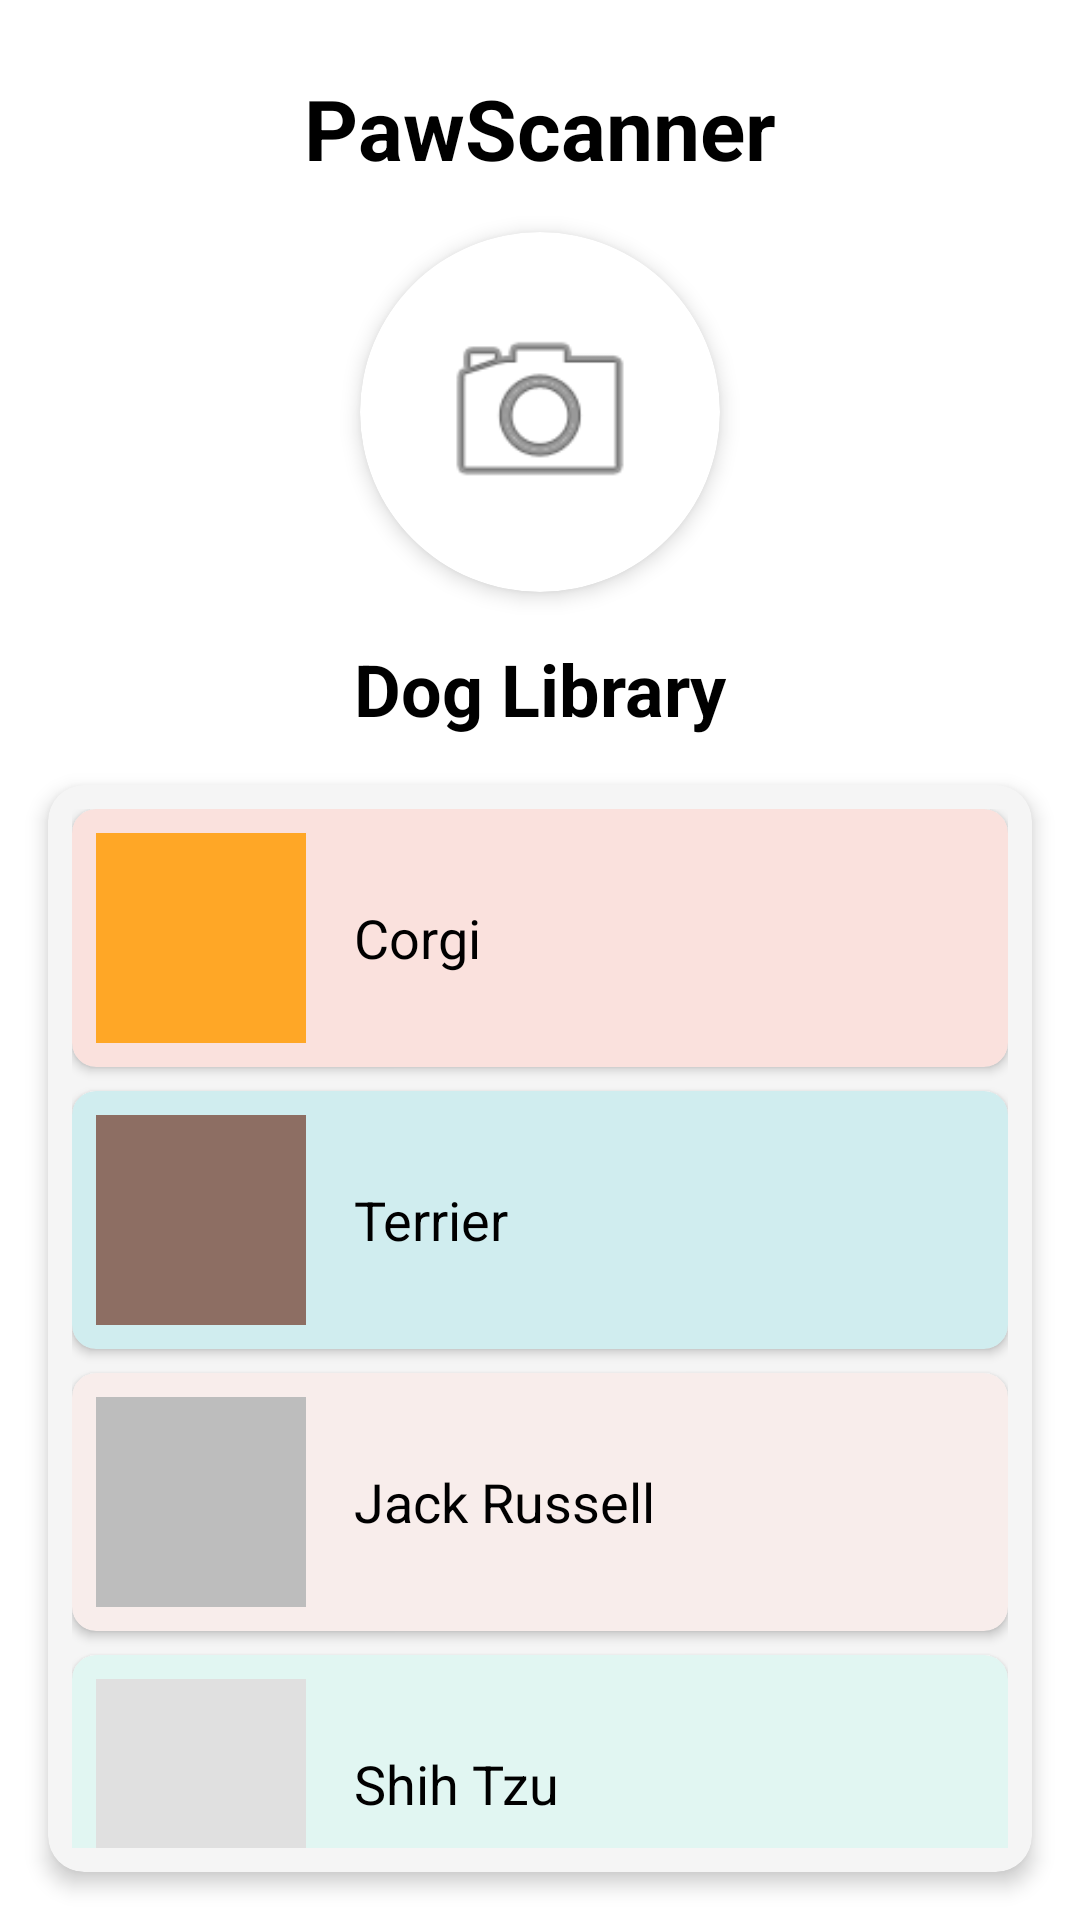

Where icons sit on this 1080 x 1920 app screen, as (x1, y1, x2, y2):
Open Camera: (361, 342, 720, 592)
